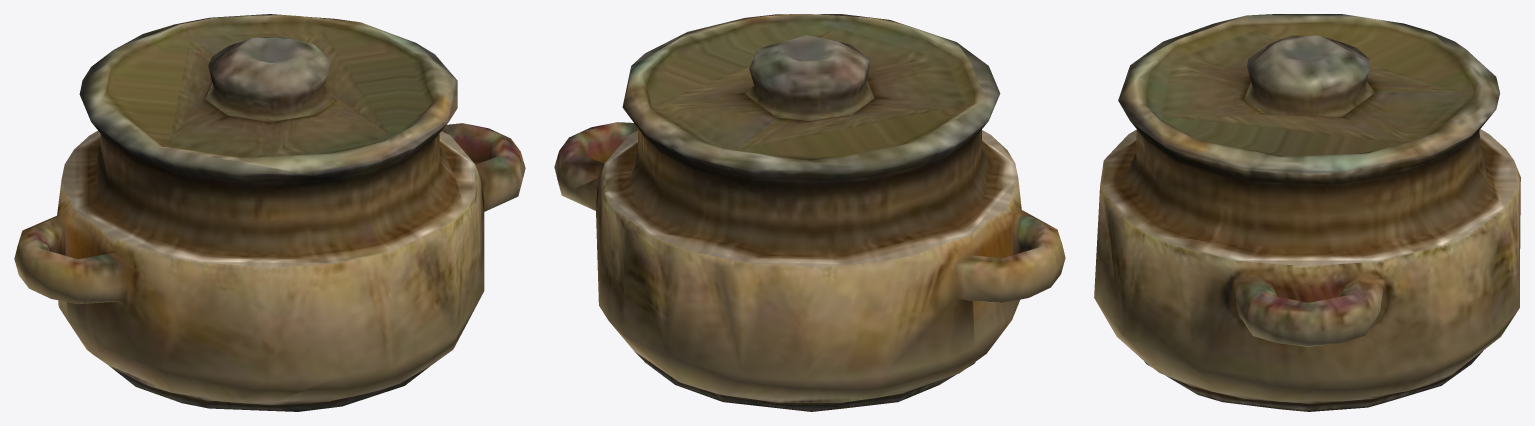
File: pot_ceramic.glb
3 renders of one model, left to right at view 1: azimuth 30°, elevation 25°; view 2: azimuth 150°, elevation 25°; view 3: azimuth 270°, elevation 25°, orthographic.
Parts seen in each view (by area): view 1: pot_ceramic; view 2: pot_ceramic; view 3: pot_ceramic.
Boxes of the visible parts, <box> form: pot_ceramic: <box>14,14,525,411</box>; pot_ceramic: <box>554,14,1065,411</box>; pot_ceramic: <box>1094,14,1520,411</box>.
Size of the model in its own units: 0.6563 by 0.3717 by 0.4956.
1 material, 1 textured.
